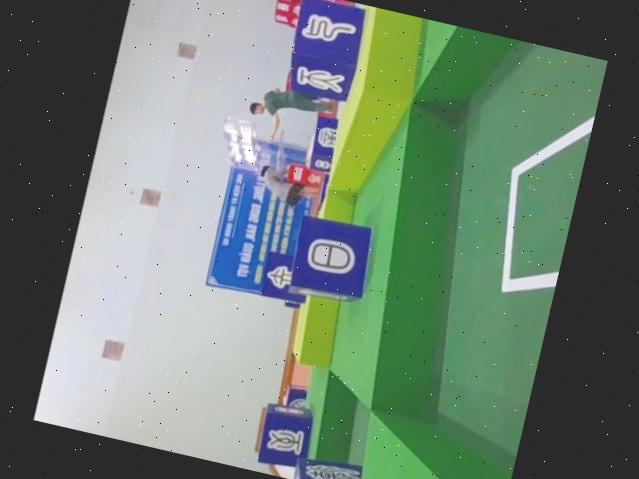R2 Fake Blue: (281, 0, 371, 106), (287, 211, 381, 308), (252, 402, 315, 473), (258, 250, 314, 306), (290, 450, 372, 479), (306, 113, 343, 174)
